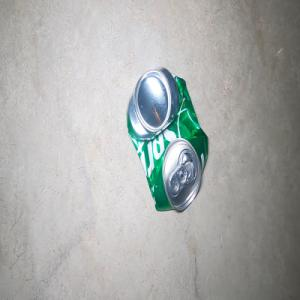SodaCan: (126, 66, 208, 211)
